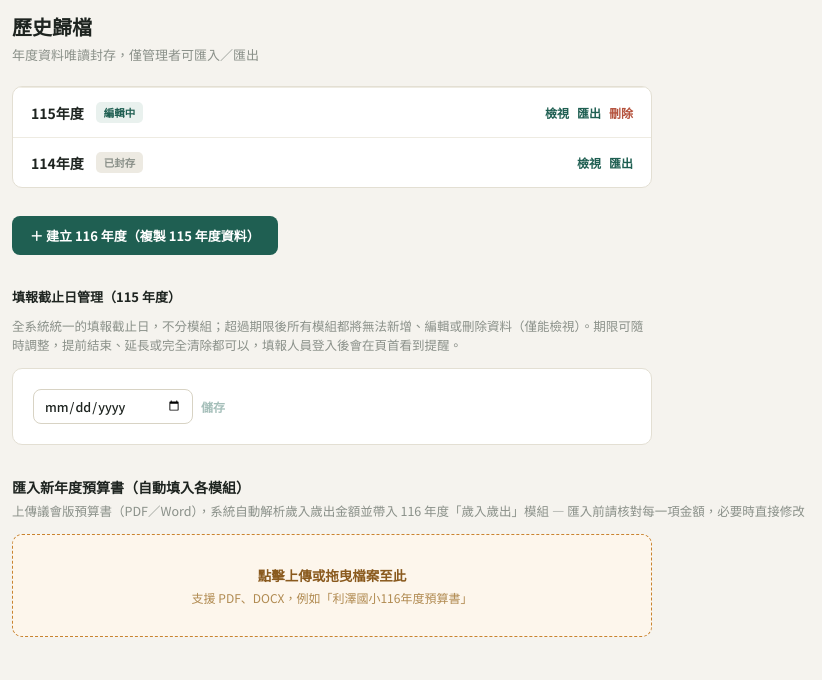
Test case: Archive 填報截止日管理 › shows the thrown error message instead of silently failing
Type "2026-11-30" into the date field. click: {"x": 113, "y": 406}
box: [33, 389, 193, 424]
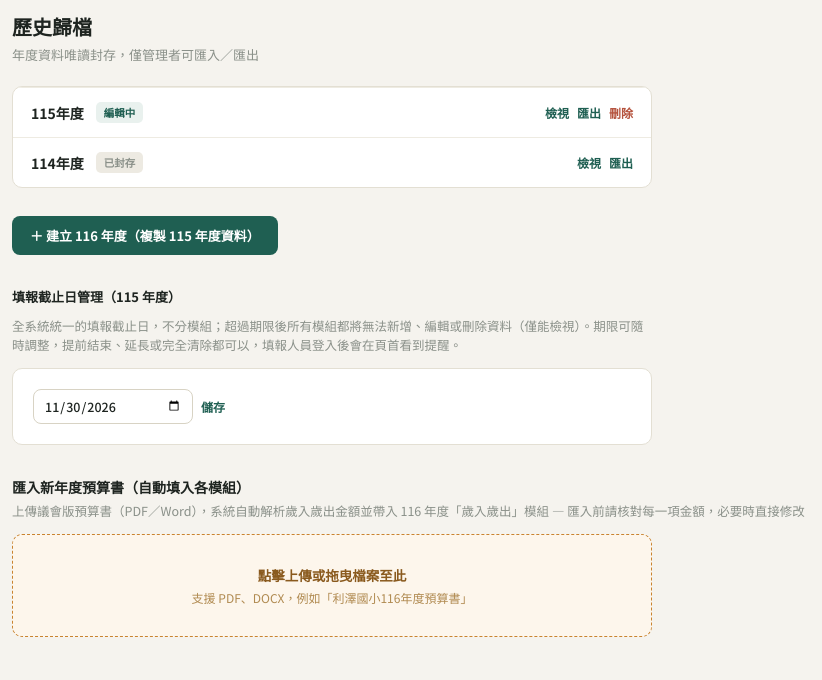
Click the text "儲存". click: {"x": 213, "y": 406}
box: [201, 398, 225, 415]
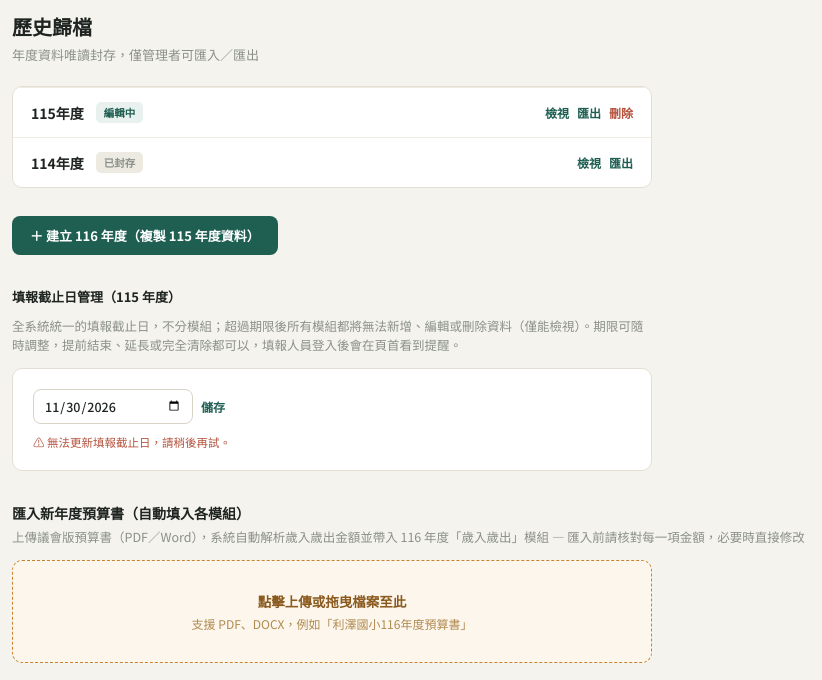
Now the text "無法更新填報截止日，請稍後再試。" is shown, box [47, 434, 231, 450]
